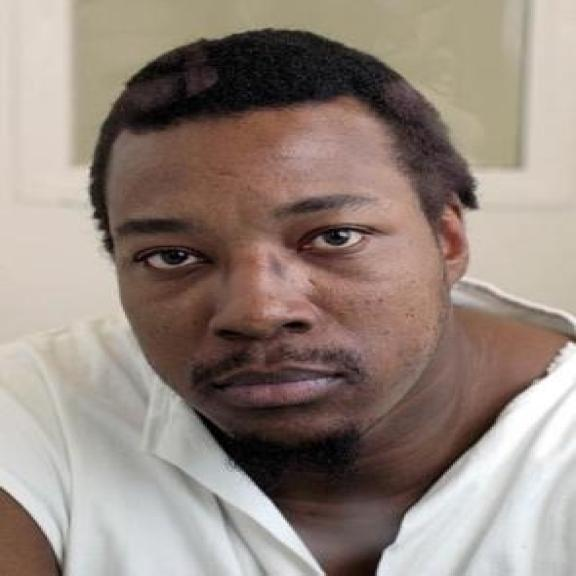face: (90, 120, 506, 461)
